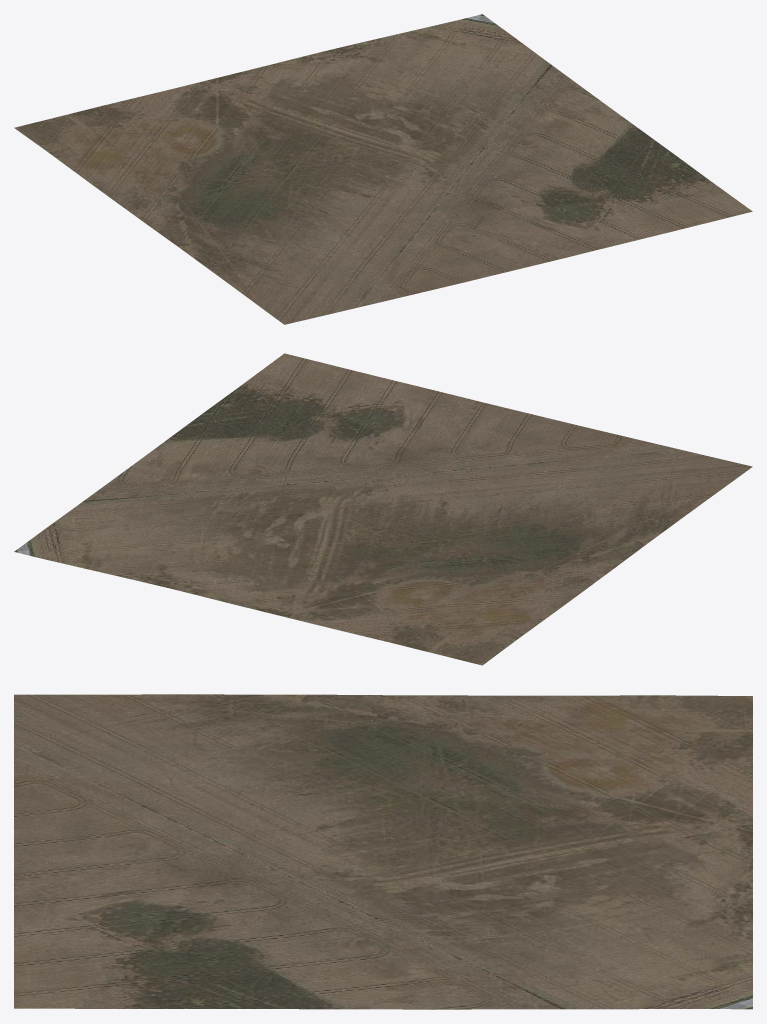
Rendered from map_13_2043_3442.dae.
3 renders of one model, top to bottom at view 1: azimuth 30°, elevation 25°; view 2: azimuth 150°, elevation 25°; view 3: azimuth 270°, elevation 25°, orthographic. The views are drawn at different scales.
Parts seen in each view (by area): view 1: Ter0; view 2: Ter0; view 3: Ter0.
Boxes of the visible parts, x1,y1,x2,y2 form: Ter0: [14, 14, 752, 324]; Ter0: [14, 353, 752, 665]; Ter0: [14, 694, 752, 1009].
Size of the model in its own units: 256 by 256 by 1.17.
3 materials, 3 textured.
